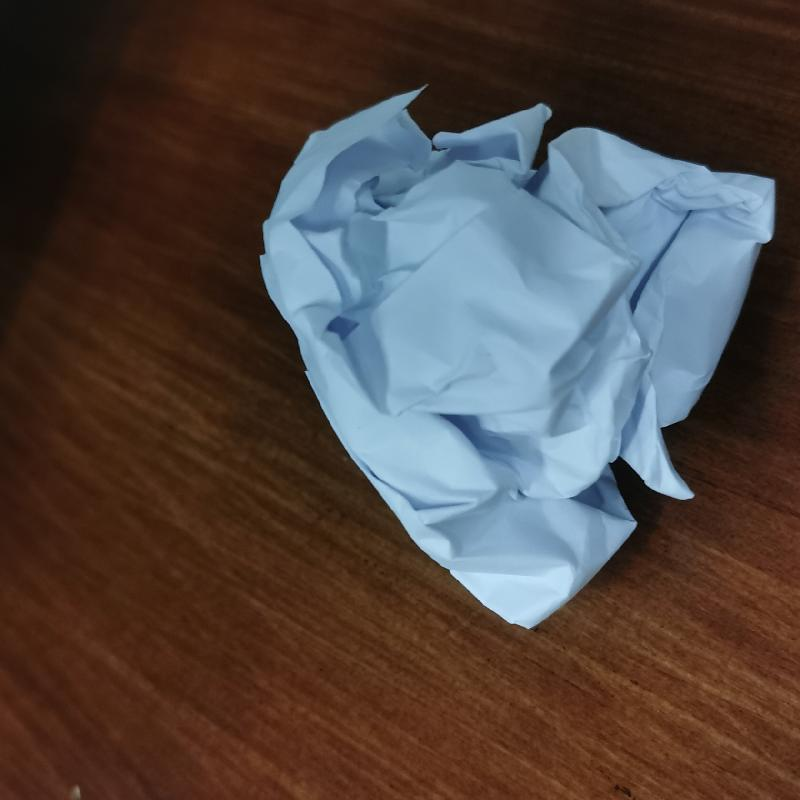spitball: (253, 78, 783, 634)
